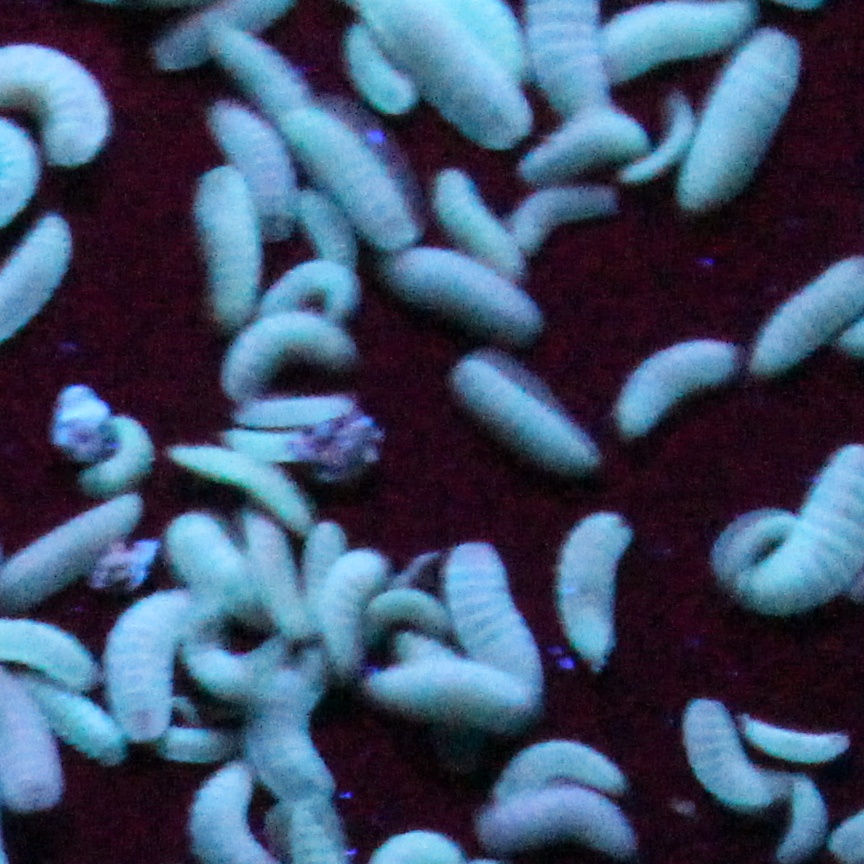larve: (295, 99, 418, 233), (695, 36, 789, 208), (9, 508, 137, 599), (751, 273, 863, 373), (381, 656, 525, 731), (474, 366, 579, 466), (568, 503, 626, 661), (405, 261, 533, 331), (458, 552, 533, 671), (258, 675, 332, 792), (233, 320, 344, 396), (195, 170, 251, 319), (684, 713, 770, 808), (221, 112, 289, 220), (219, 20, 296, 113), (437, 168, 514, 261), (619, 349, 717, 422), (186, 450, 296, 508), (523, 122, 625, 182), (323, 554, 379, 659), (191, 624, 277, 692), (126, 606, 168, 742), (177, 526, 242, 613), (249, 533, 298, 636), (523, 182, 595, 252), (295, 196, 363, 256), (351, 29, 407, 101), (42, 694, 116, 747), (509, 745, 619, 780), (635, 112, 686, 187), (272, 268, 358, 312), (374, 592, 454, 638), (749, 717, 840, 756), (768, 789, 816, 861), (91, 428, 140, 494), (725, 515, 788, 559), (303, 524, 332, 613), (249, 396, 353, 419), (167, 724, 221, 759), (235, 431, 310, 450)
